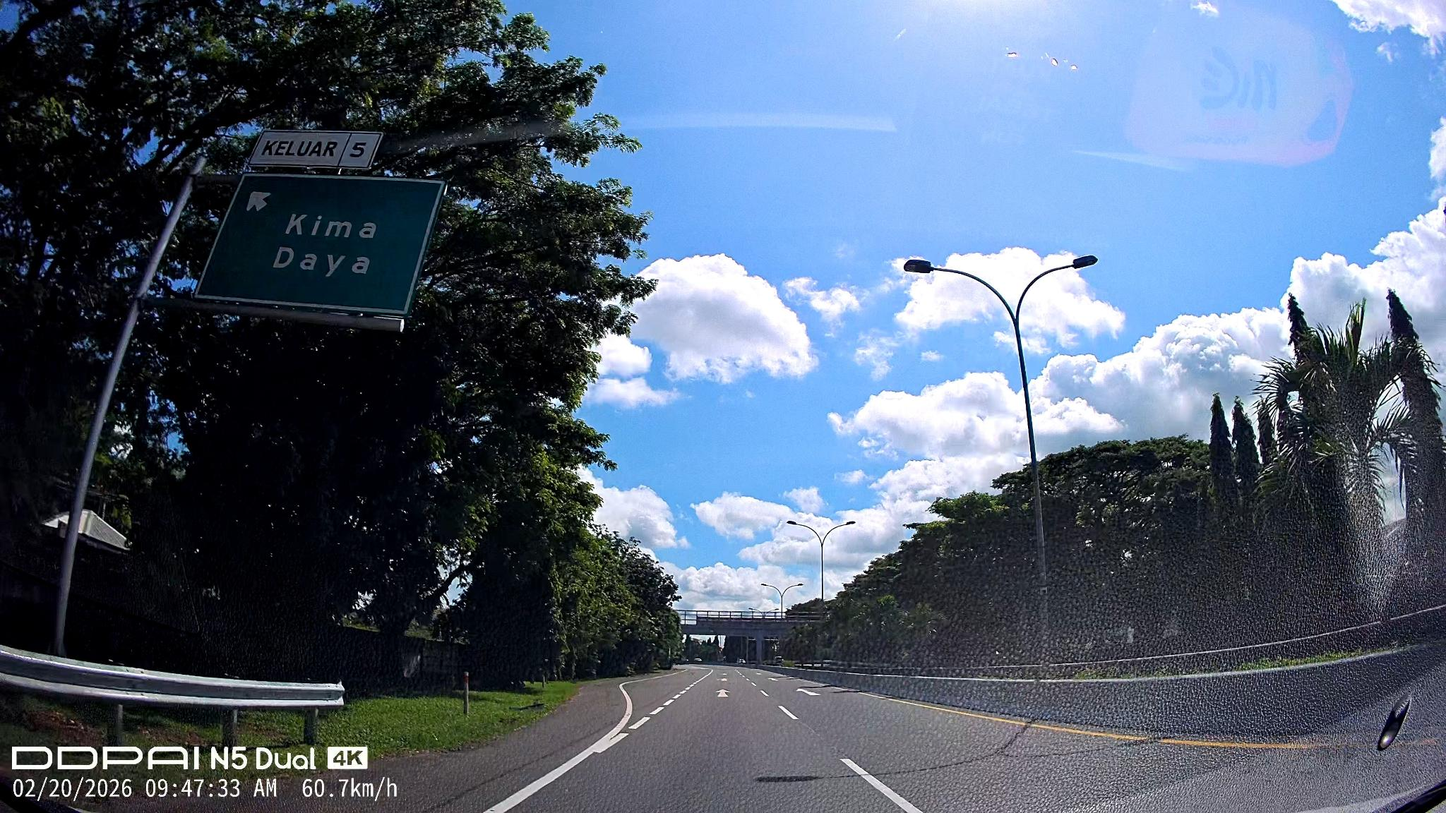rambu_teks: (189, 168, 451, 319)
